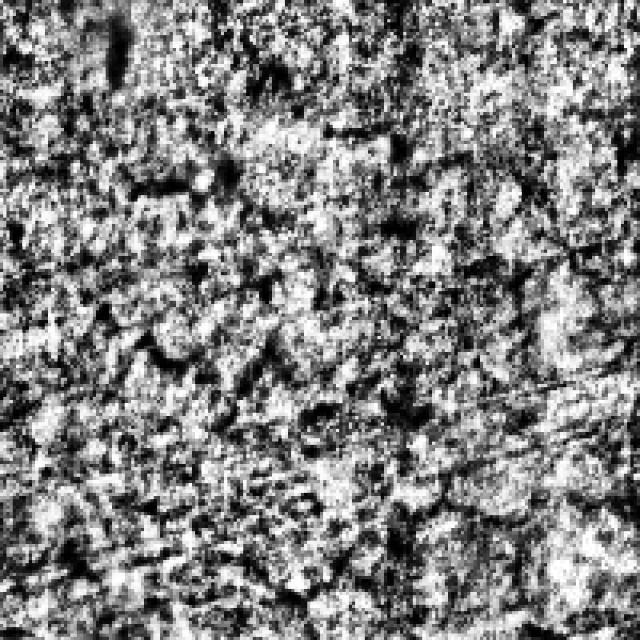Pitted_Surface: (48, 250, 454, 614), (96, 109, 509, 278)
